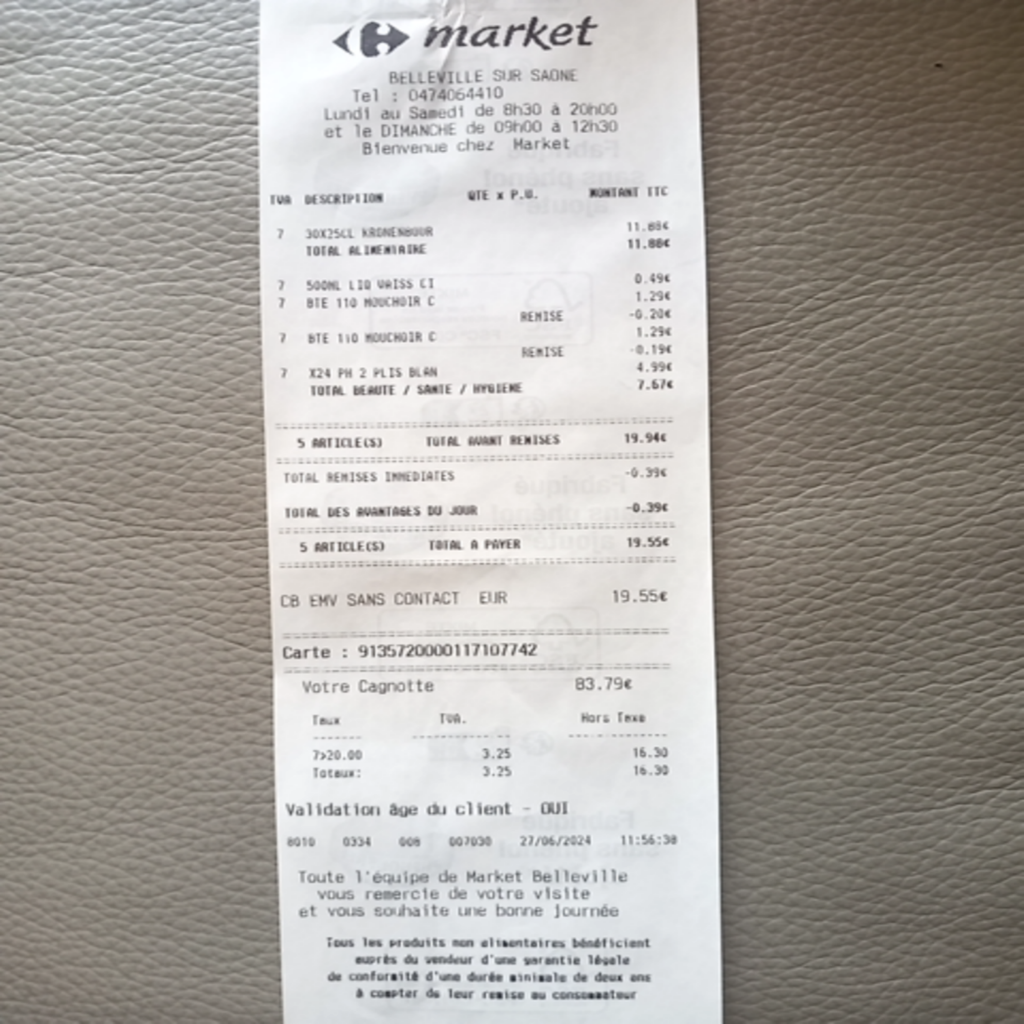recipt: (258, 0, 720, 1024)
